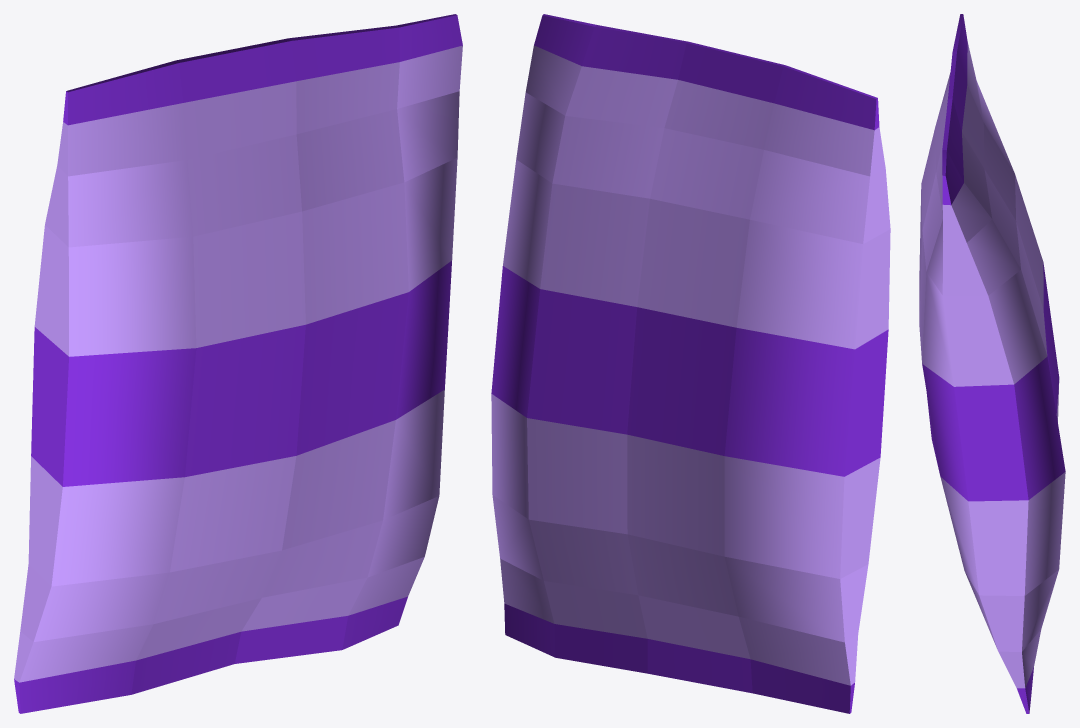
The model's file is Fruit Juice Gummy.fbx.
3 renders of one model, left to right at view 1: azimuth 30°, elevation 25°; view 2: azimuth 150°, elevation 25°; view 3: azimuth 270°, elevation 25°, orthographic. The views are drawn at different scales.
Visible parts, largest first — view 1: Node 0; view 2: Node 0; view 3: Node 0.
Part boxes in pixels (x1,y1,x2,y2): Node 0: (14,14,462,713); Node 0: (491,14,890,713); Node 0: (919,14,1065,713).
Bounding box in the file's own units: 0.0551 × 0.2341 × 0.1457.
